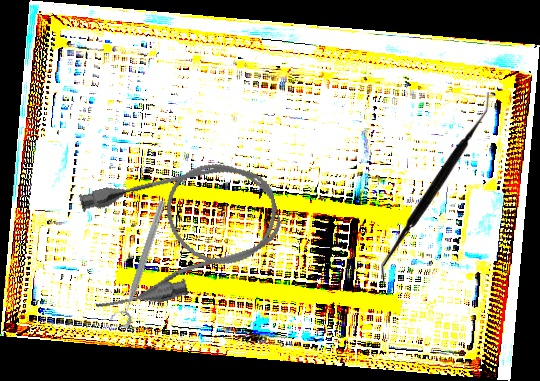Cannula: (67, 146, 293, 319)
Fixation Ring: (108, 196, 170, 330)
Spatula Surgical: (381, 92, 491, 286)
